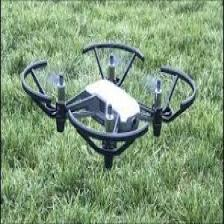drone: (21, 42, 196, 165)
